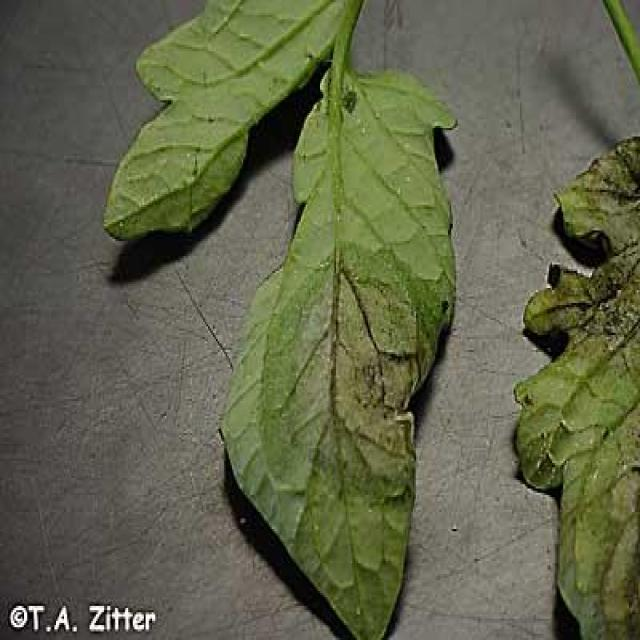Late Blight: (211, 47, 464, 631), (520, 98, 640, 629)
